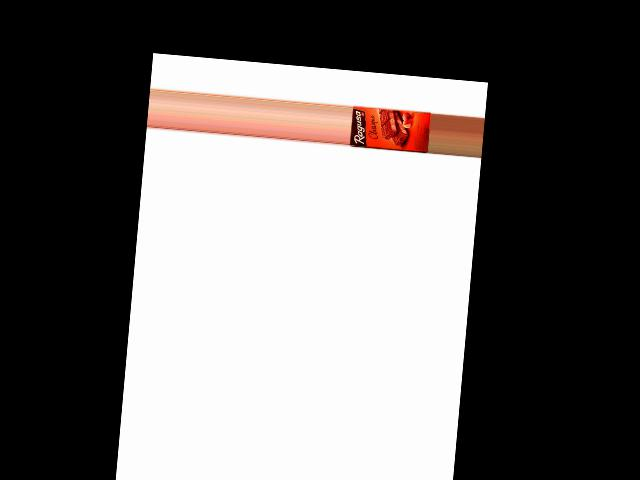chocolate: (350, 101, 432, 155)
